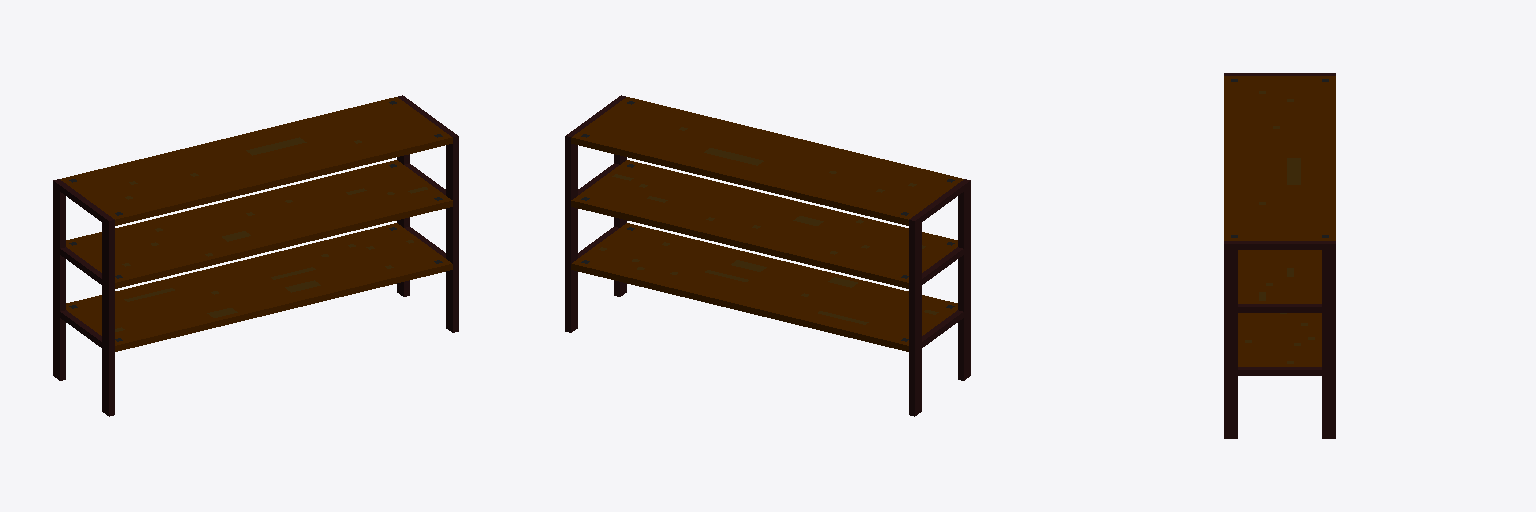
3 renders of one model, left to right at view 1: azimuth 30°, elevation 25°; view 2: azimuth 150°, elevation 25°; view 3: azimuth 270°, elevation 25°, orthographic.
Parts seen in each view (by area): view 1: object 1; view 2: object 1; view 3: object 1.
Part boxes in pixels (left/top/right/bottom): object 1: left=53, top=95, right=458, bottom=416; object 1: left=565, top=95, right=970, bottom=416; object 1: left=1224, top=73, right=1335, bottom=438.
Size of the model in its own units: 5.8 by 3.1 by 1.6.
1 materials, 1 textured.